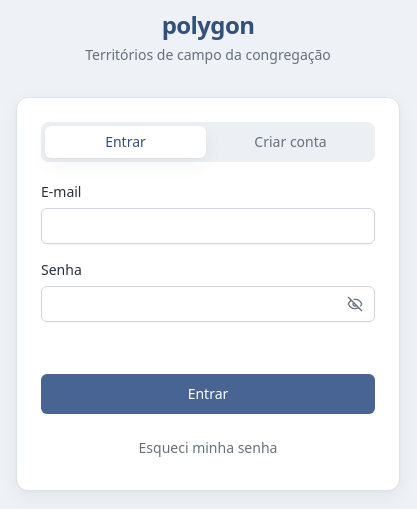
Login › cria a conta com o e-mail em minúsculas
Click the tab "Criar conta". click: x=290, y=142
box: [210,126,371,158]
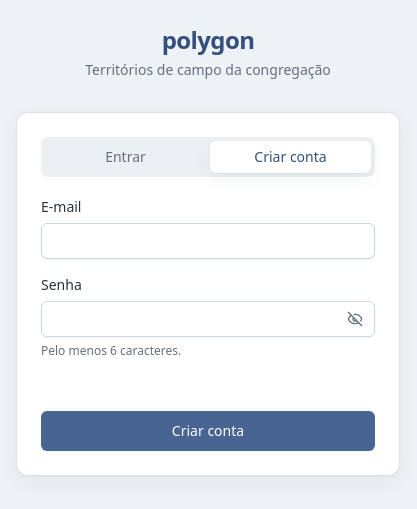
Type "Ana@Exemplo.com" into the field labelled "E-mail". click: x=208, y=241
box: [41,223,375,259]
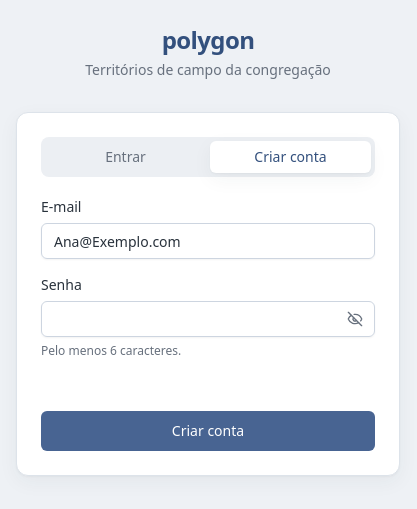
Type "segredo1" into the password field labelled "Senha". click: x=208, y=319
box: [41,301,375,337]
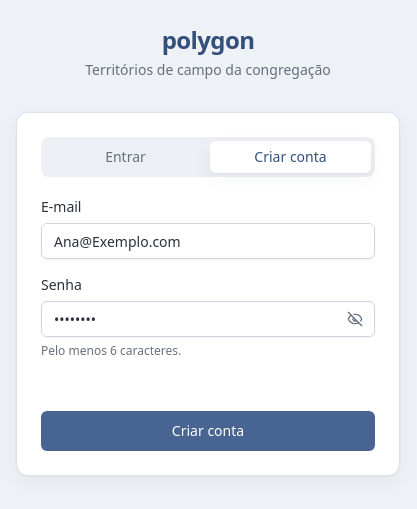
Click the button "Criar conta". click: x=208, y=431
box: [41,411,375,451]
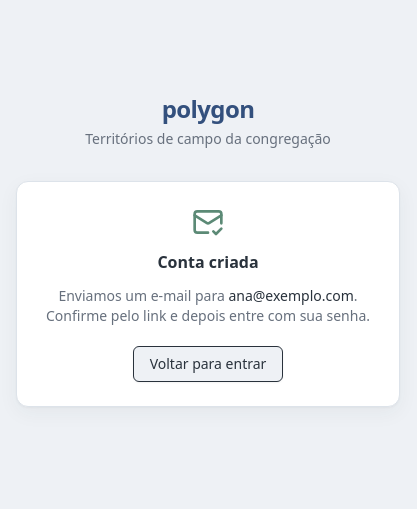
Expected: the text "Confirme pelo link" is shown, [46,286,370,325]
